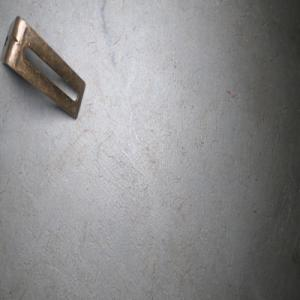MetalPart: (0, 14, 87, 121)
